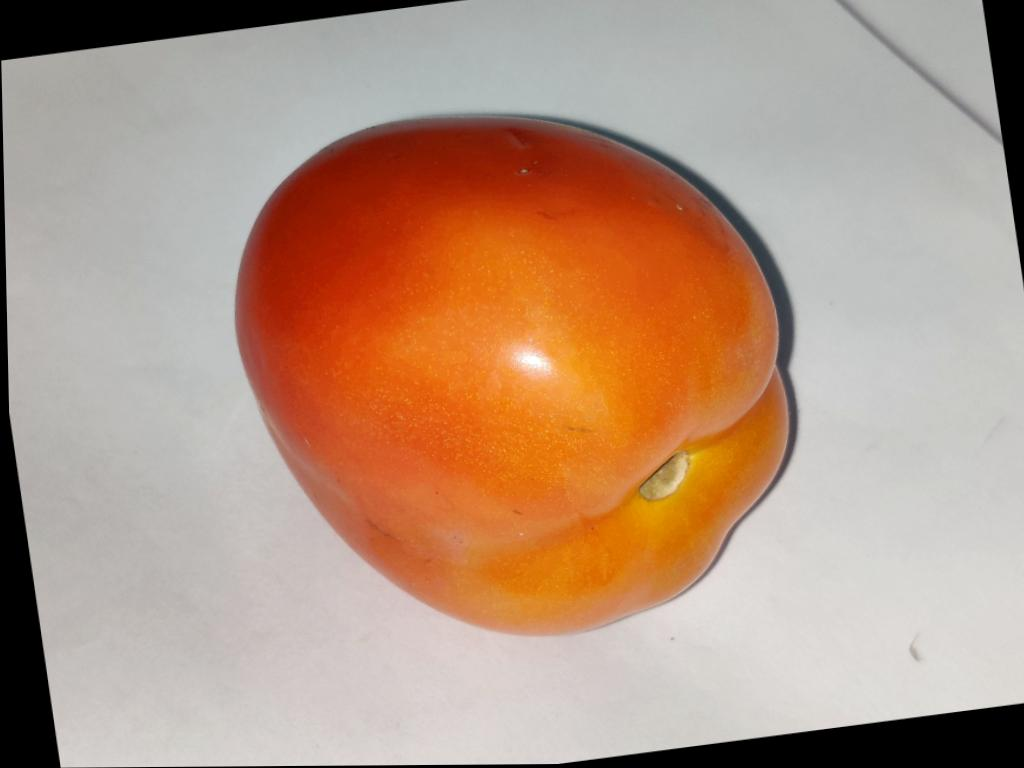tomato: (236, 118, 788, 634)
